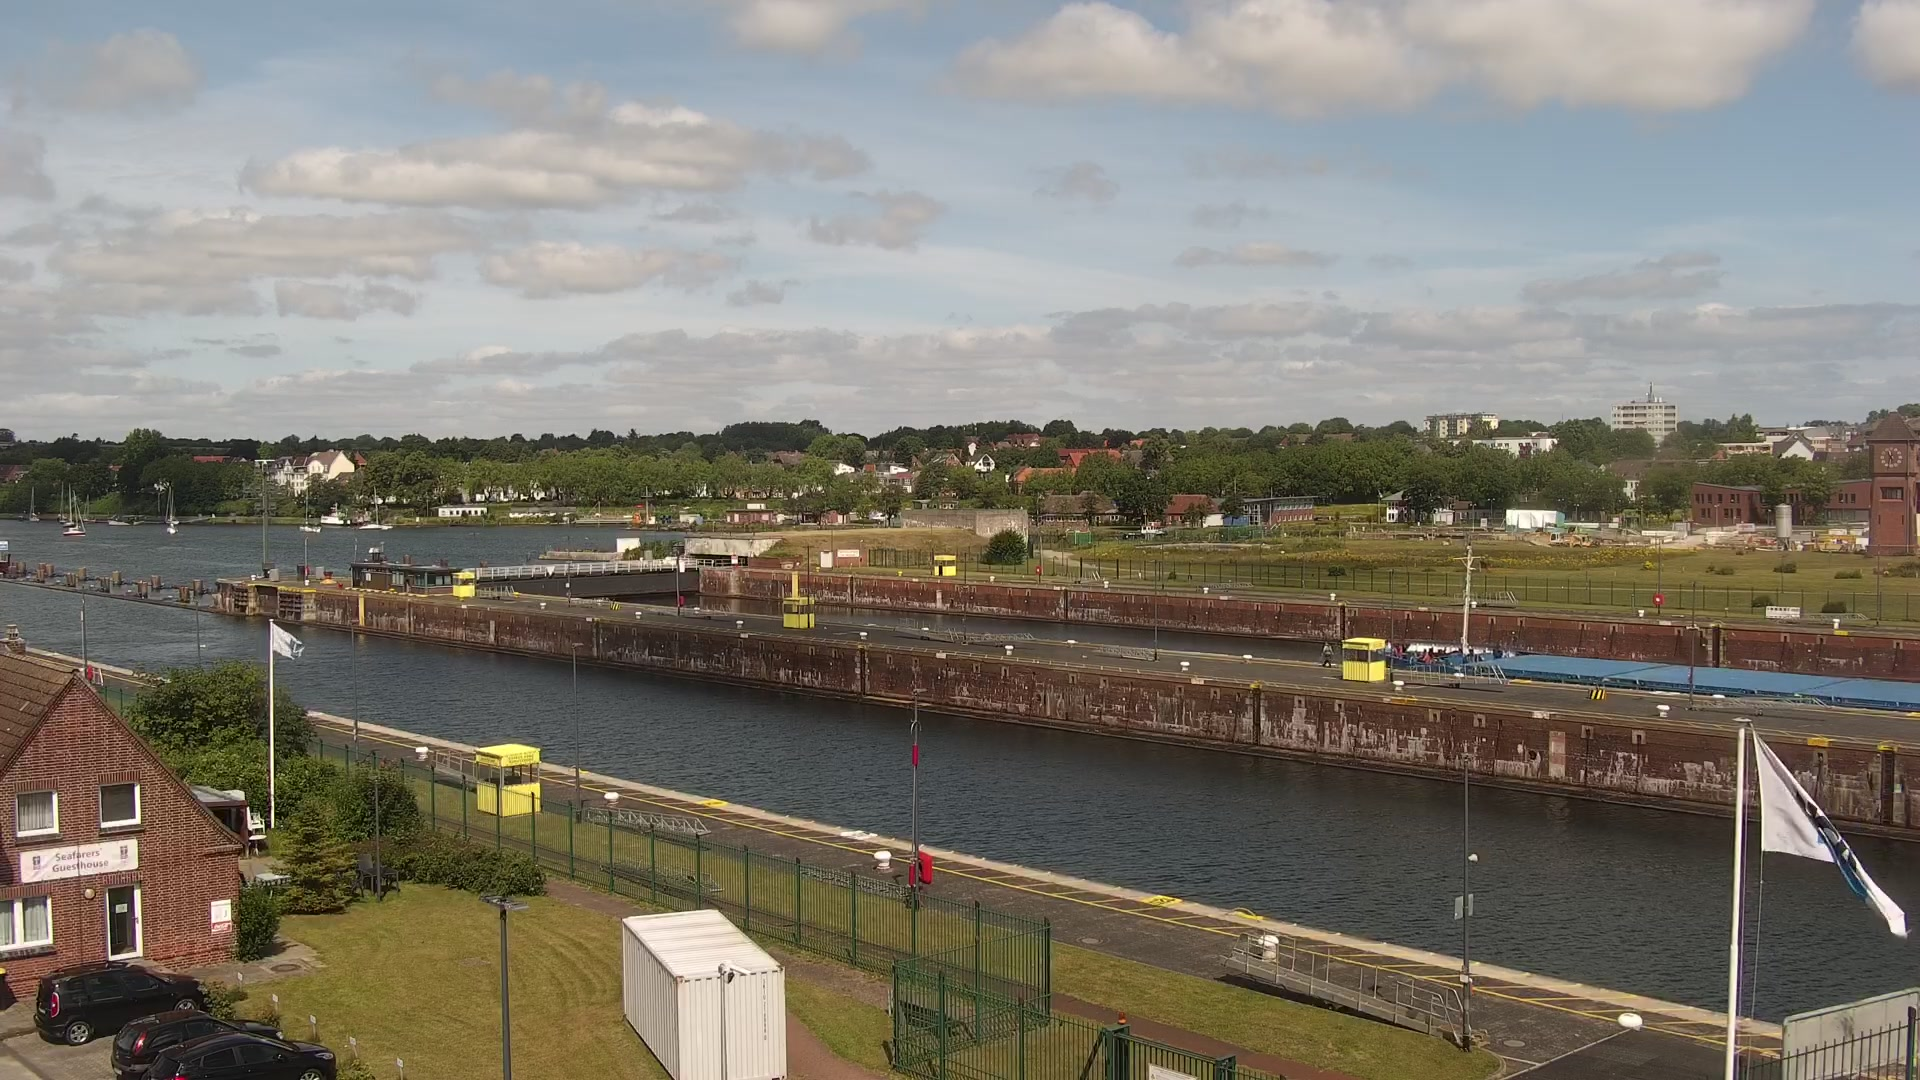human: (1316, 638, 1335, 668)
land: (31, 958, 206, 1047), (110, 1007, 284, 1079), (150, 1031, 335, 1080), (1571, 533, 1599, 548), (1549, 531, 1570, 546), (1123, 531, 1146, 540), (870, 512, 889, 520)
sea: (1373, 540, 1919, 711), (357, 483, 394, 530), (298, 484, 322, 533), (62, 489, 86, 536), (62, 481, 77, 527), (164, 485, 179, 526), (166, 488, 179, 535), (27, 485, 41, 522), (55, 482, 67, 523), (83, 493, 98, 524)
